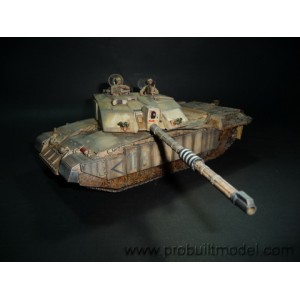Battle Tank: (34, 87, 271, 219)
